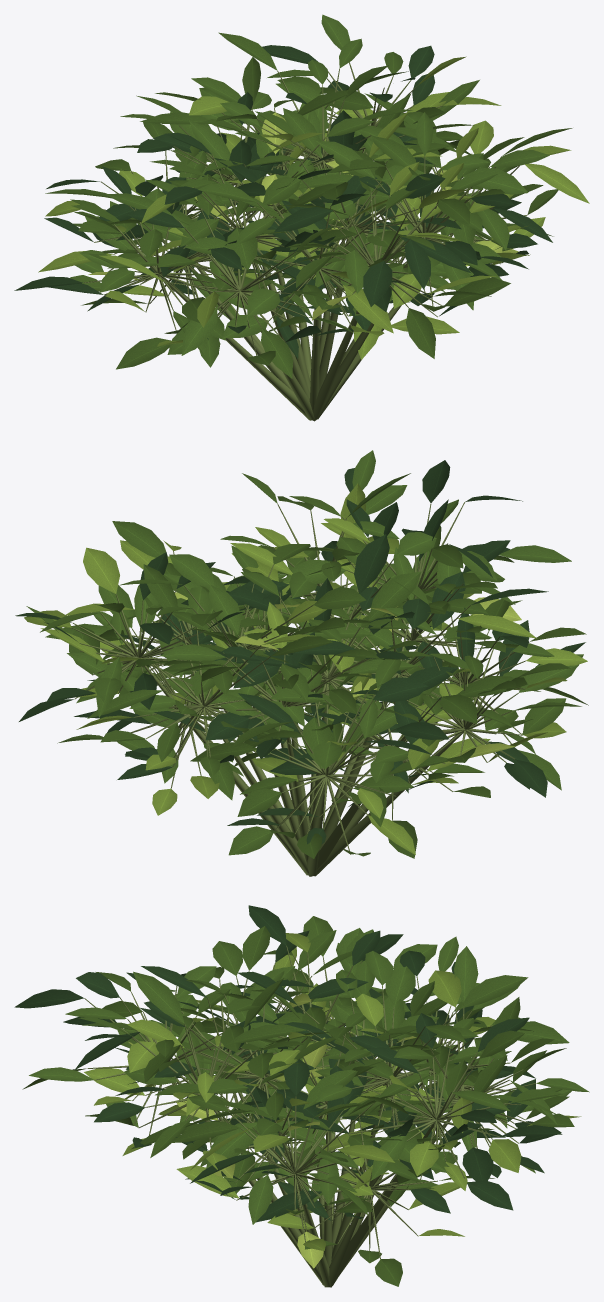
File: warmShrub.glb
3 renders of one model, top to bottom at view 1: azimuth 30°, elevation 25°; view 2: azimuth 150°, elevation 25°; view 3: azimuth 270°, elevation 25°, orthographic. The views are drawn at different scales.
Visible parts, largest first — view 1: shrub-foliage, shrub-stems; view 2: shrub-foliage, shrub-stems; view 3: shrub-foliage, shrub-stems.
Part boxes in pixels (x1,y1,x2,y2): shrub-foliage: (14, 14, 589, 378); shrub-stems: (84, 62, 527, 421); shrub-foliage: (15, 450, 588, 858); shrub-stems: (71, 502, 529, 876); shrub-foliage: (14, 905, 589, 1286); shrub-stems: (84, 946, 535, 1287).
Bounding box in the file's own units: 1.17 × 0.7093 × 1.17.
5 materials, 4 textured.
